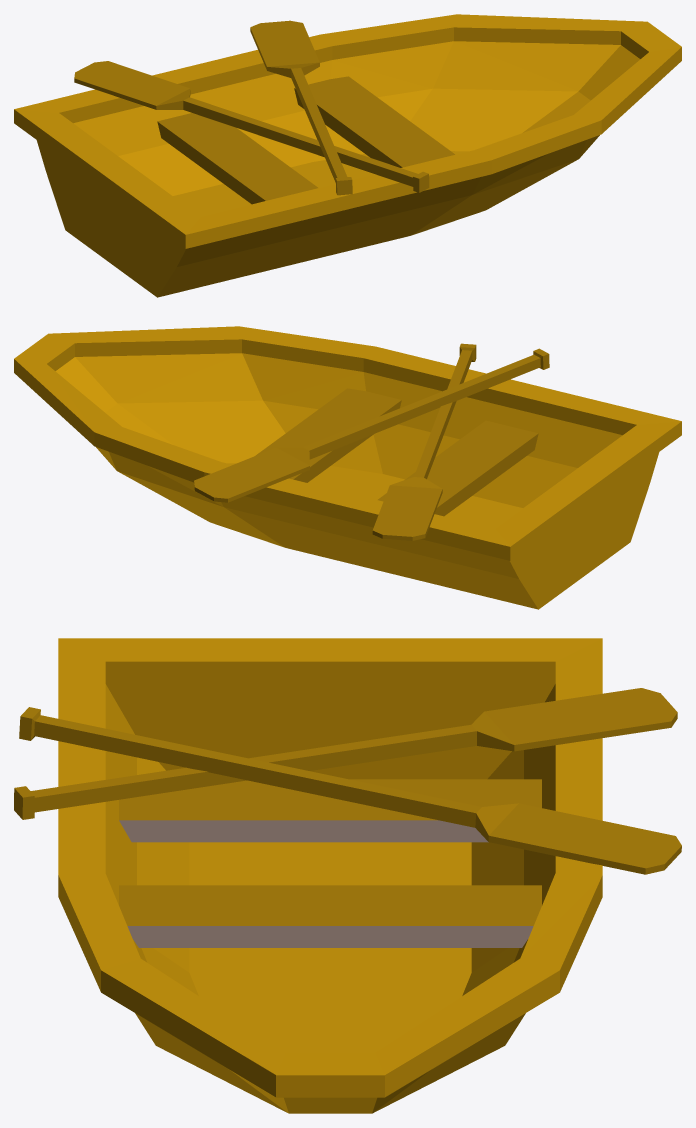
Rendered from Rowboat.gltf.
3 views of the same model, one above another, from view 1: azimuth 30°, elevation 25°; view 2: azimuth 150°, elevation 25°; view 3: azimuth 270°, elevation 25° (orthographic). The views are drawn at different scales.
Visible parts, largest first — view 1: Mesh3 skpJKKh6Q1 Model, Mesh1 skpJKKh6Q1 Model, Mesh4 skpJKKh6Q1 Model, Mesh5 skpJKKh6Q1 Model, Mesh2 skpJKKh6Q1 Model; view 2: Mesh3 skpJKKh6Q1 Model, Mesh2 skpJKKh6Q1 Model, Mesh4 skpJKKh6Q1 Model, Mesh1 skpJKKh6Q1 Model, Mesh5 skpJKKh6Q1 Model; view 3: Mesh3 skpJKKh6Q1 Model, Mesh5 skpJKKh6Q1 Model, Mesh4 skpJKKh6Q1 Model, Mesh2 skpJKKh6Q1 Model, Mesh1 skpJKKh6Q1 Model.
Boxes of the visible parts, x1,y1,x2,y2 form: Mesh3 skpJKKh6Q1 Model: (14,14,681,297); Mesh1 skpJKKh6Q1 Model: (74,61,429,192); Mesh4 skpJKKh6Q1 Model: (157,113,317,204); Mesh5 skpJKKh6Q1 Model: (294,76,454,167); Mesh2 skpJKKh6Q1 Model: (250,20,352,195); Mesh3 skpJKKh6Q1 Model: (14,326,681,609); Mesh2 skpJKKh6Q1 Model: (194,348,549,502); Mesh4 skpJKKh6Q1 Model: (378,420,538,516); Mesh1 skpJKKh6Q1 Model: (372,343,476,540); Mesh5 skpJKKh6Q1 Model: (255,388,401,482); Mesh3 skpJKKh6Q1 Model: (58,638,602,1113); Mesh5 skpJKKh6Q1 Model: (119,885,541,947); Mesh4 skpJKKh6Q1 Model: (119,779,541,842); Mesh2 skpJKKh6Q1 Model: (19,707,681,874); Mesh1 skpJKKh6Q1 Model: (14,688,677,819).
Size of the model in its own units: 755 by 154 by 488.
